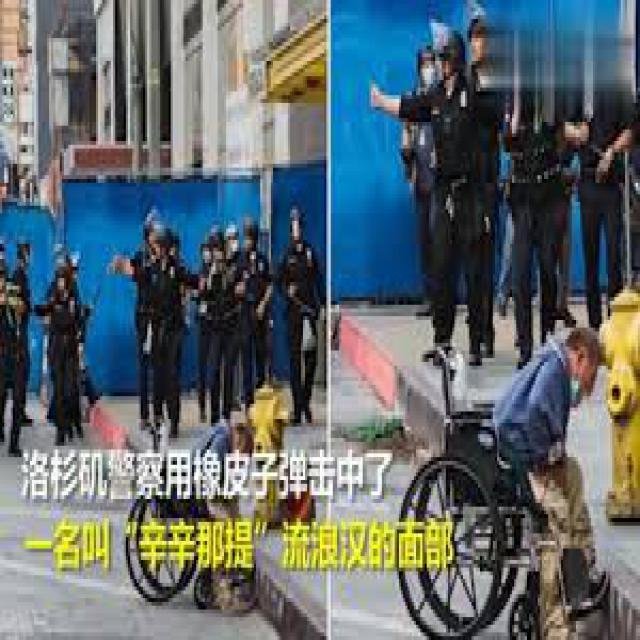wheelchairs: (392, 343, 557, 636)
